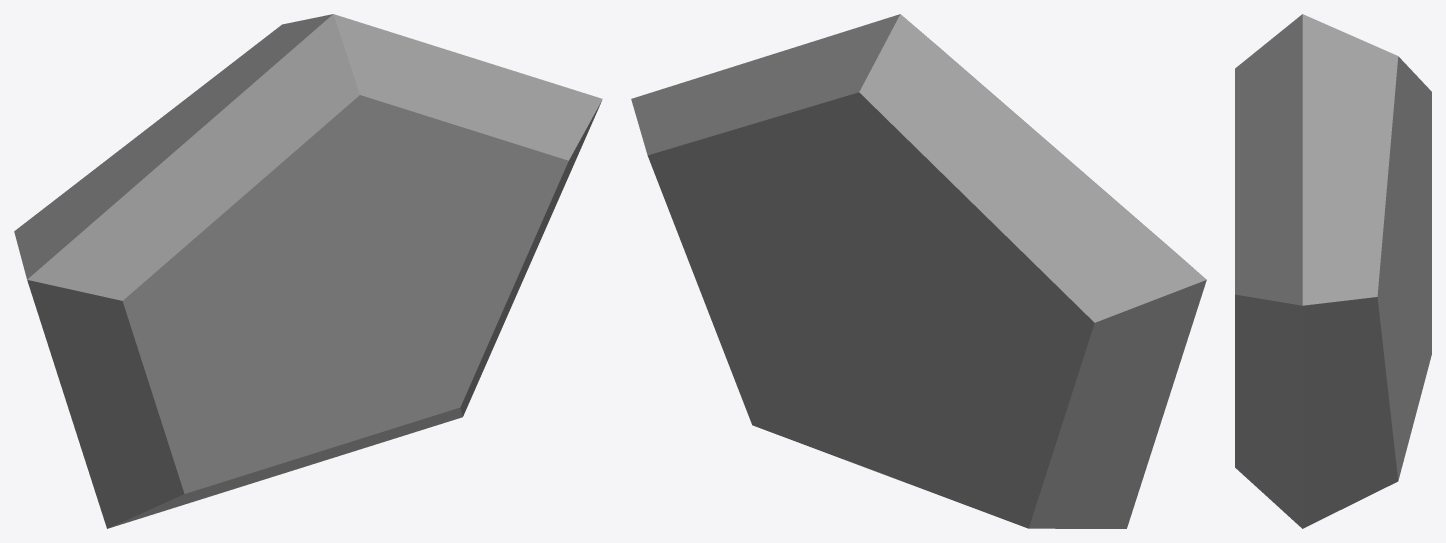
Rendered from SM_Rock3.FBX.
3 renders of one model, left to right at view 1: azimuth 30°, elevation 25°; view 2: azimuth 150°, elevation 25°; view 3: azimuth 270°, elevation 25°, orthographic. The views are drawn at different scales.
Parts seen in each view (by area): view 1: SM_Rock3; view 2: SM_Rock3; view 3: SM_Rock3.
Boxes of the visible parts, x1=… form: SM_Rock3: x1=14, y1=14, x2=602, y2=528; SM_Rock3: x1=631, y1=14, x2=1206, y2=528; SM_Rock3: x1=1235, y1=14, x2=1431, y2=528.
Size of the model in its own units: 14.98 by 4.29 by 11.43.
